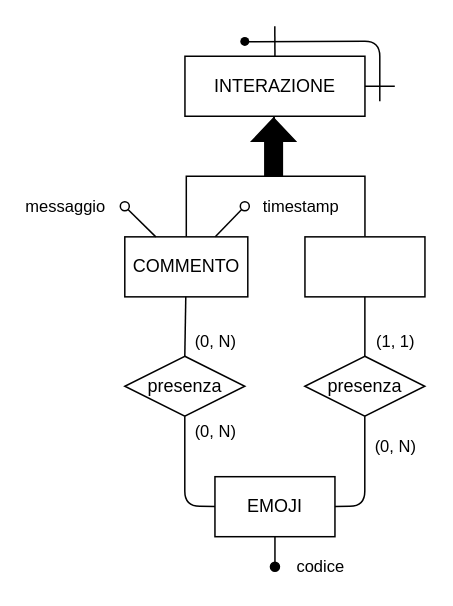
Some shapes in this 453 by 606 pixel diagram are drawn without their labels. The centre of each missing label's shape, as x and y in pixels:
(e): point (273, 146)
REAZIONE: point (364, 266)
